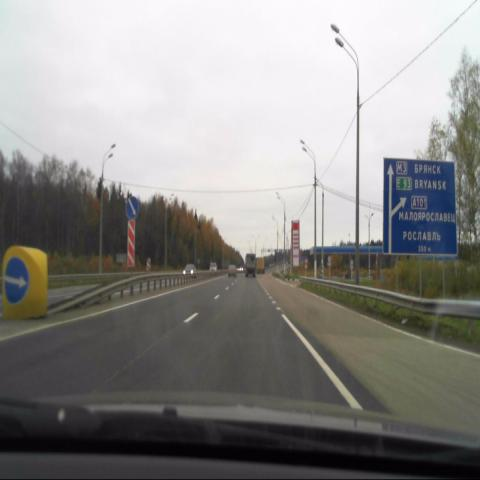4_1_2_1: (2, 254, 28, 302)
4_2_1: (125, 196, 138, 221)
